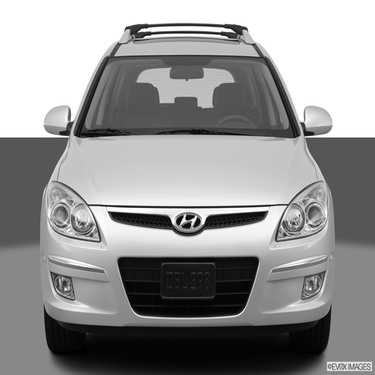car: (24, 15, 341, 361)
